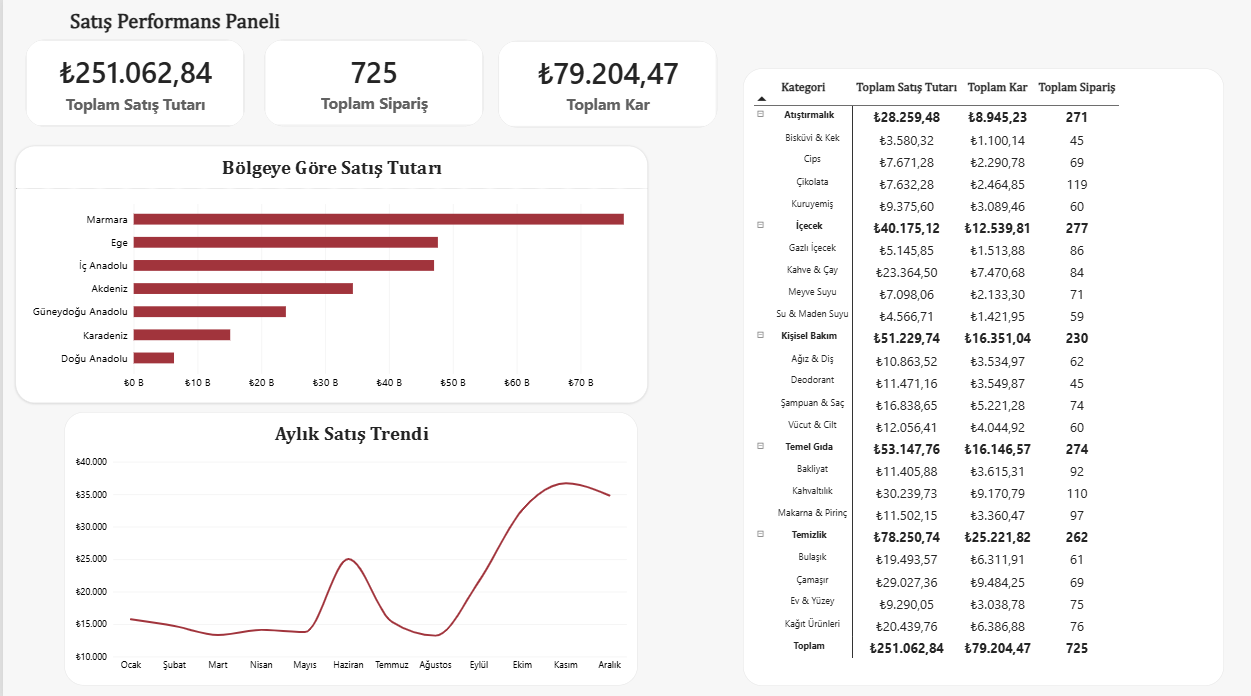

Layout of this report page (visuals, bound fields, positions):
{"tool":"powerbi","page":{"name":"2. sayfa","canvas":[1920,1080],"ordinal":0},"visuals":[{"type":"textbox","box":[0,21.2,536.5,38.5],"z":0},{"type":"cardVisual","fields":{"Data":["Ölçüler.Toplam Satış Tutarı"]},"box":[34.6,65.4,337.8,134.4],"z":1000},{"type":"cardVisual","fields":{"Data":["Ölçüler.Toplam Kar"]},"box":[761.5,67.3,337.8,133.3],"z":2000},{"type":"cardVisual","fields":{"Data":["Ölçüler.Toplam Sipariş"]},"box":[401.9,65.4,337.5,133.3],"z":3000},{"type":"barChart","title":"Bölgeye Göre Satış Tutarı","fields":{"Category":["Satışlar.Bölge"],"Y":["Ölçüler.Toplam Satış Tutarı"]},"box":[19.2,228.8,973.1,396.2],"z":4000},{"type":"lineChart","title":"Aylık Satış Trendi","fields":{"Category":["Satışlar.Sipariş Tarihi.Varyasyon.Tarih Hiyerarşisi.Yıl","Satışlar.Sipariş Tarihi.Varyasyon.Tarih Hiyerarşisi.Ay"],"Y":["Ölçüler.Toplam Satış Tutarı"]},"box":[94.2,638.5,882.7,421.2],"z":5000},{"type":"pivotTable","fields":{"Rows":["Ürünler.Kategori","Ürünler.Alt Kategori"],"Values":["Ölçüler.Toplam Satış Tutarı","Ölçüler.Toplam Kar","Ölçüler.Toplam Sipariş"]},"box":[1138.5,109.6,740.4,950],"z":6000}]}

Visuals, with their boxes in screenshot pixels (x1, y1, x2, y2), scaled from the page's 1920x1080 canvas onto the 1251x696 screenshot:
textbox: [x1=0, y1=14, x2=350, y2=38]
cardVisual - Ölçüler.Toplam Satış Tutarı: [x1=23, y1=42, x2=243, y2=129]
cardVisual - Ölçüler.Toplam Kar: [x1=496, y1=43, x2=716, y2=129]
cardVisual - Ölçüler.Toplam Sipariş: [x1=262, y1=42, x2=482, y2=128]
"Bölgeye Göre Satış Tutarı" barChart: [x1=13, y1=147, x2=647, y2=403]
"Aylık Satış Trendi" lineChart: [x1=61, y1=411, x2=637, y2=683]
pivotTable - Ürünler.Kategori x Ürünler.Alt Kategori: [x1=742, y1=71, x2=1224, y2=683]
